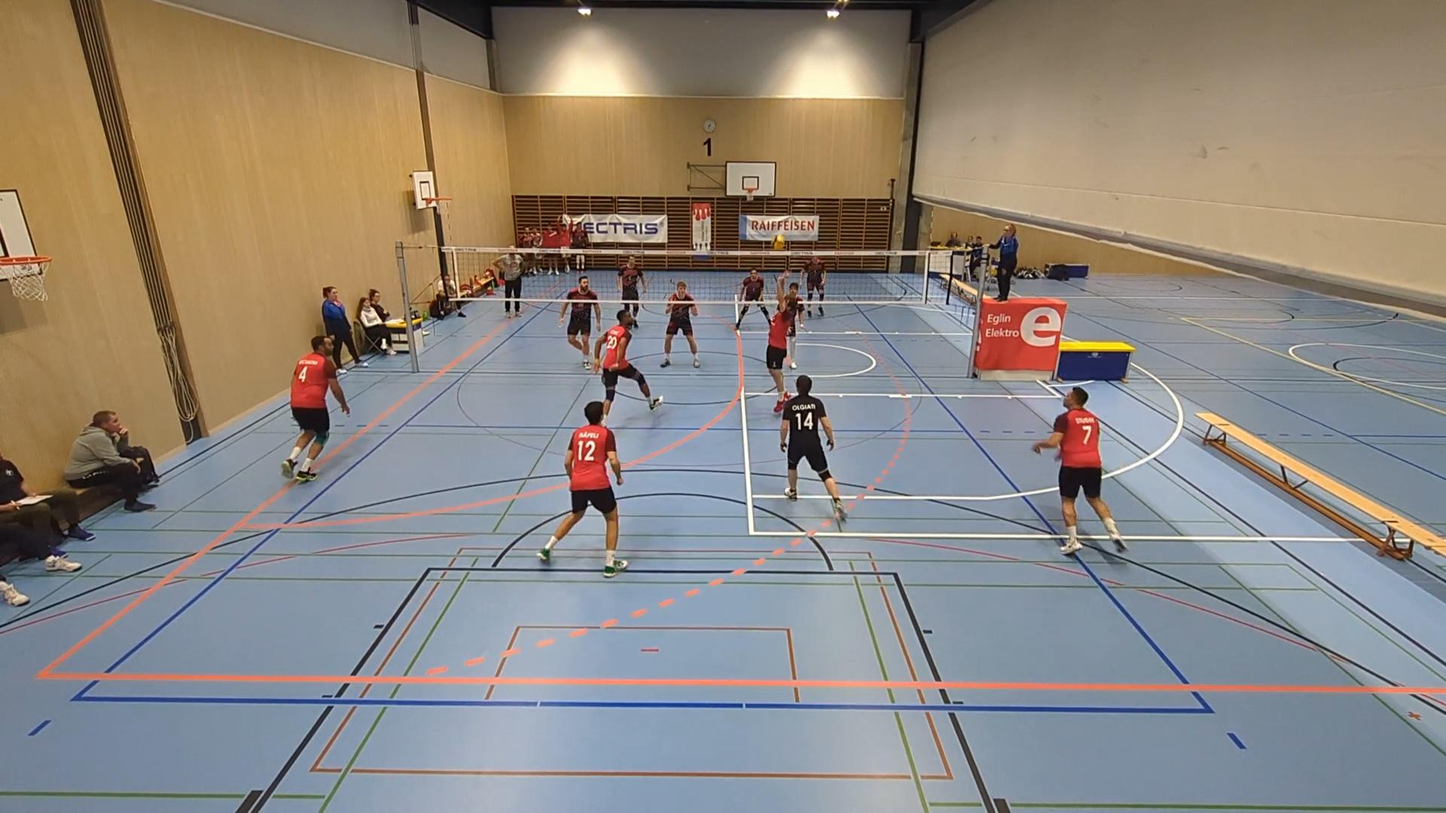Player: (537, 401, 627, 577), (1033, 387, 1126, 554), (780, 375, 847, 523), (282, 336, 349, 481), (594, 306, 662, 423), (559, 276, 601, 369), (660, 281, 700, 367), (735, 269, 768, 330), (618, 257, 645, 317), (787, 282, 804, 369), (804, 256, 826, 315)
Set: (760, 273, 811, 400)
ball: (772, 233, 785, 247)
